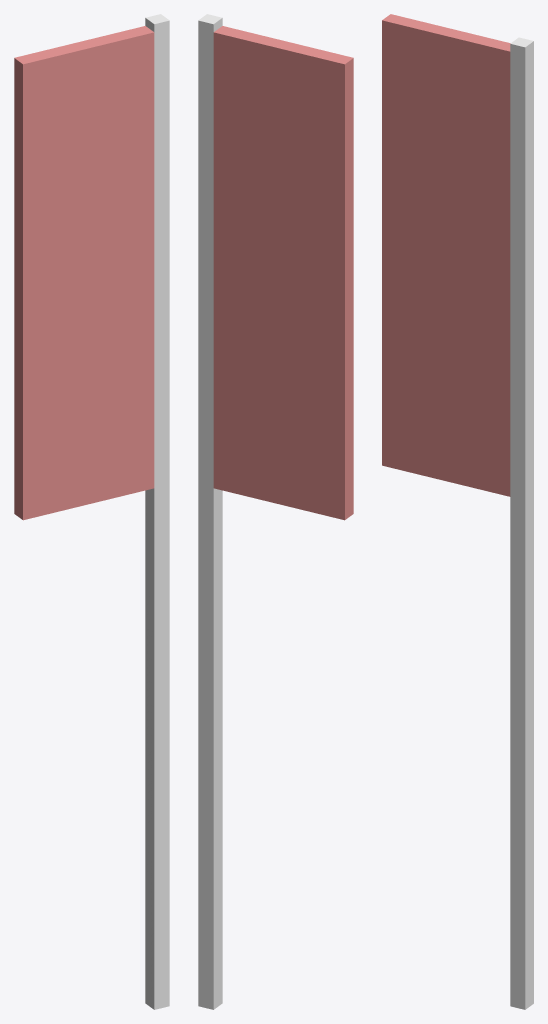
The model's file is flag_red.glb.
The picture shows the model from 3 angles, left to right: view 1: azimuth 30°, elevation 25°; view 2: azimuth 150°, elevation 25°; view 3: azimuth 330°, elevation 25°; orthographic projection. The views are drawn at different scales.
Visible parts, largest first — view 1: flagRed; view 2: flagRed; view 3: flagRed.
Part boxes in pixels (x1,y1,x2,y2): flagRed: [14, 14, 169, 1009]; flagRed: [198, 14, 353, 1009]; flagRed: [382, 14, 533, 1009].
Bounding box in the file's own units: 0.19 × 1.22 × 0.02.
